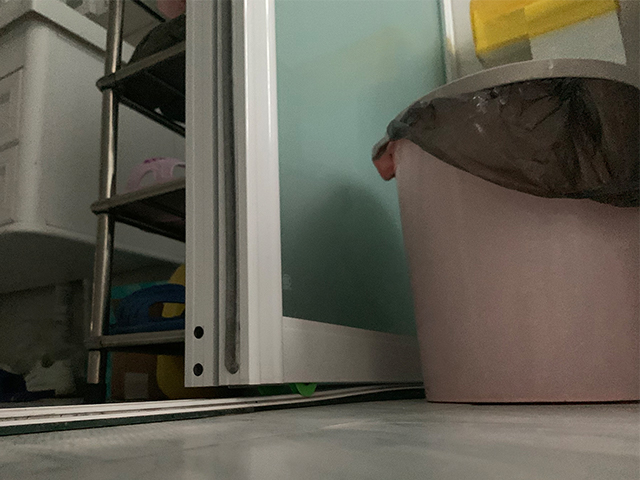trashcan: (370, 56, 640, 405)
